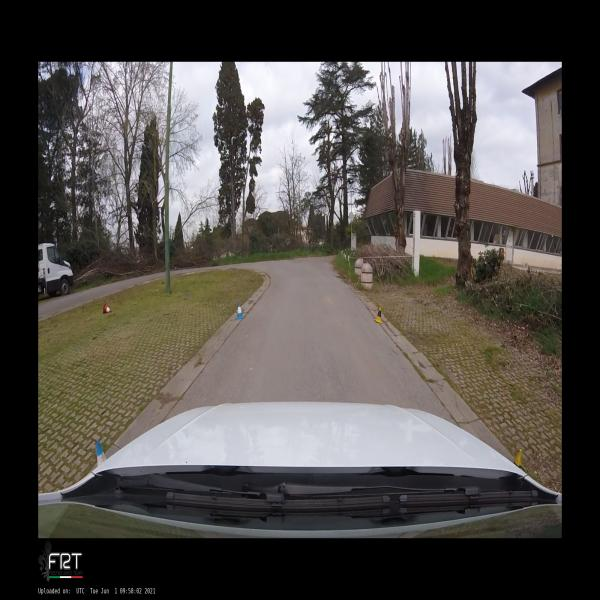blue_cone: (96, 440, 107, 466), (236, 303, 245, 319)
orange_cone: (103, 303, 113, 314)
yellow_cone: (374, 306, 383, 324), (514, 448, 522, 468)
